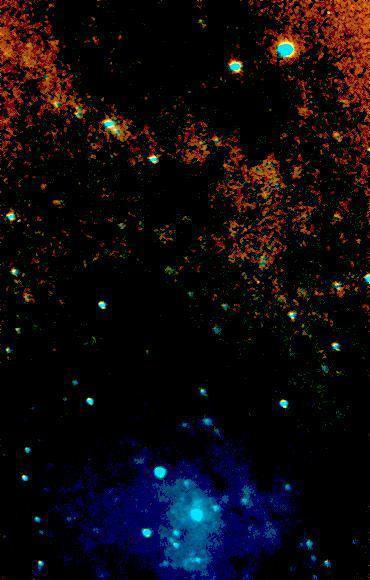star: (319, 121, 349, 151)
